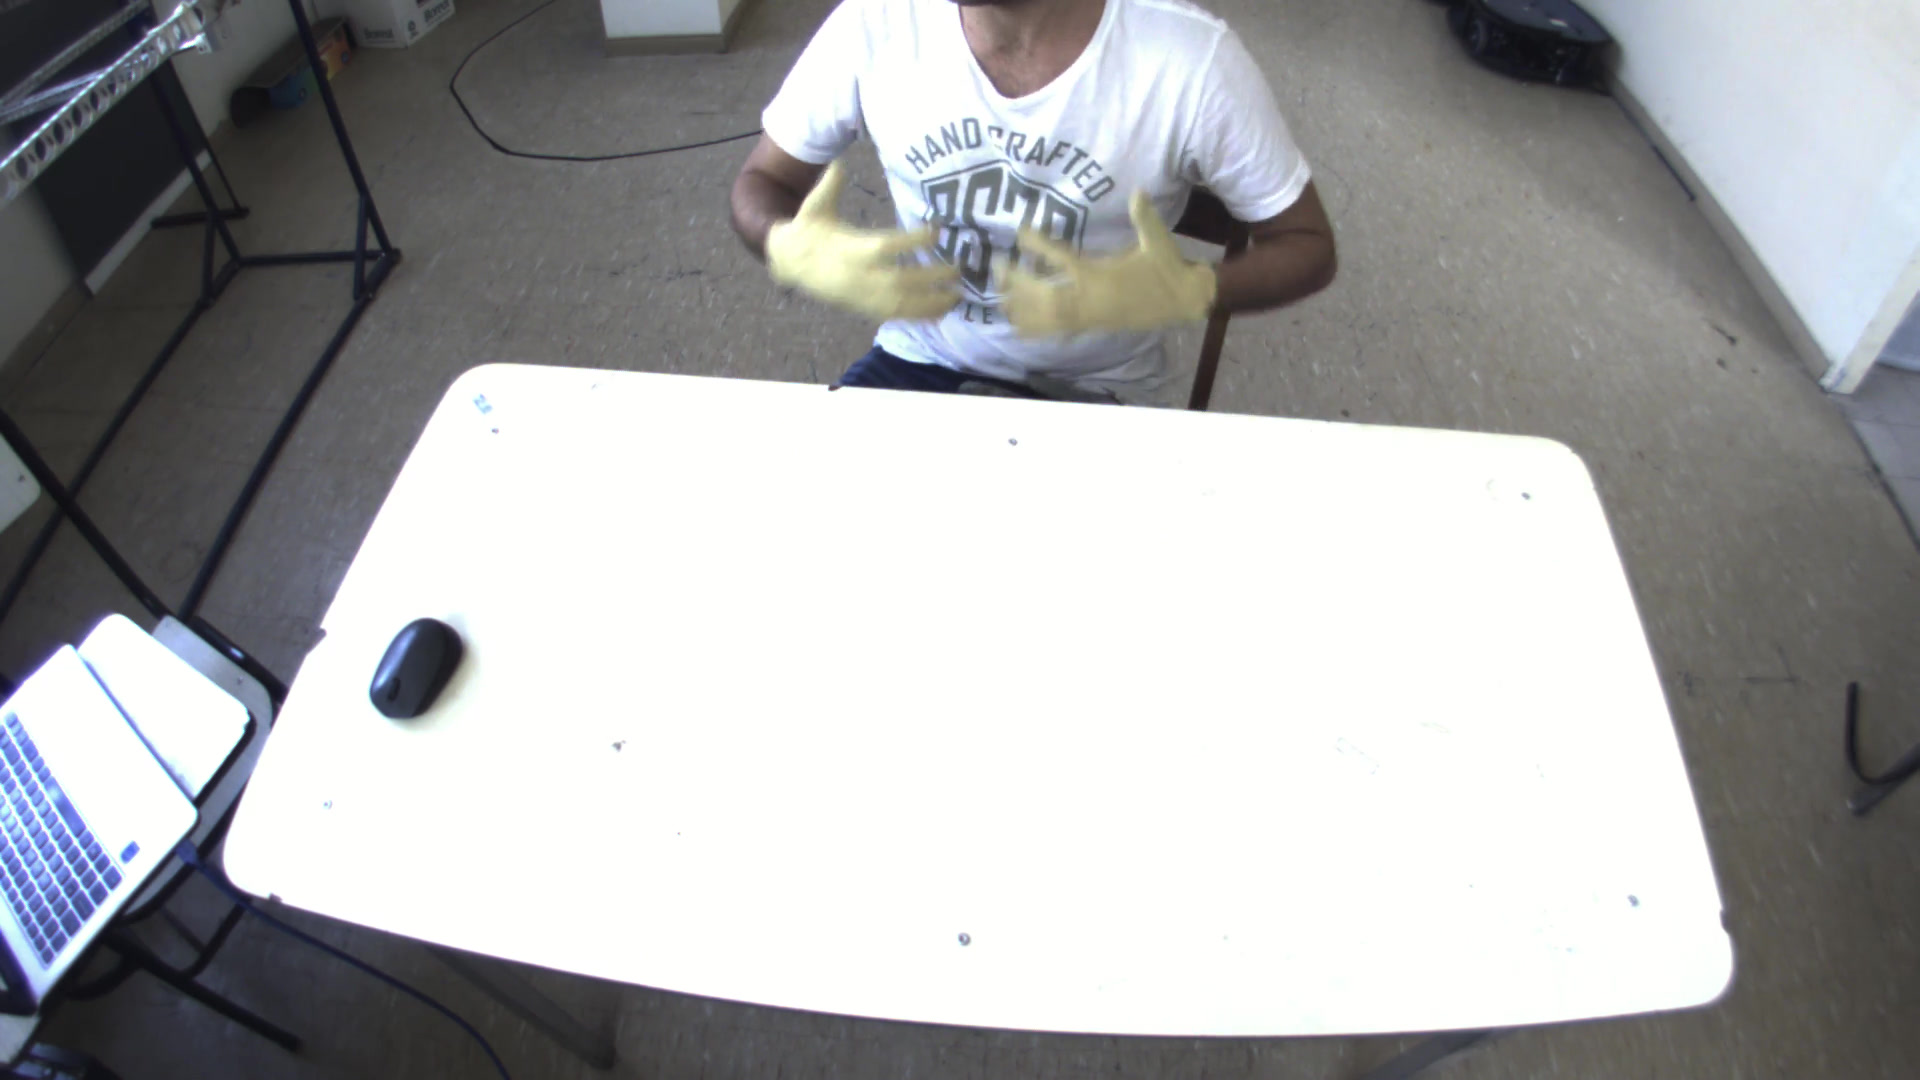hand: (990, 181, 1232, 342), (789, 169, 964, 338)
